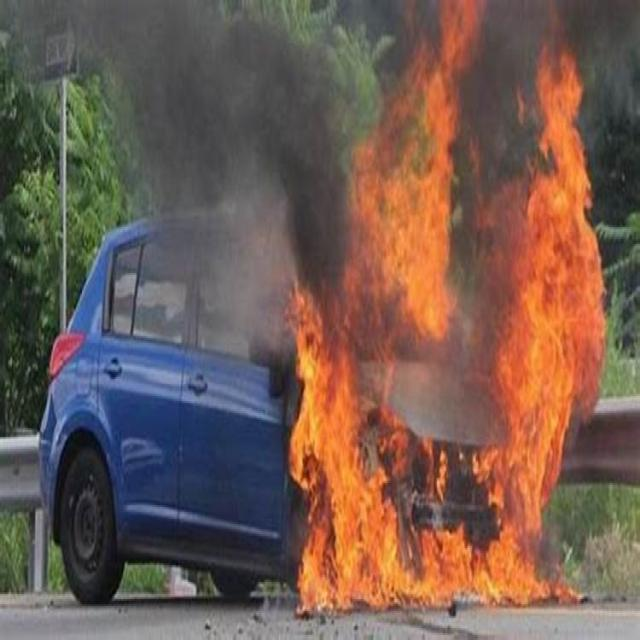fire: (294, 329, 394, 605), (497, 177, 601, 437), (372, 124, 446, 305), (480, 458, 550, 606)
